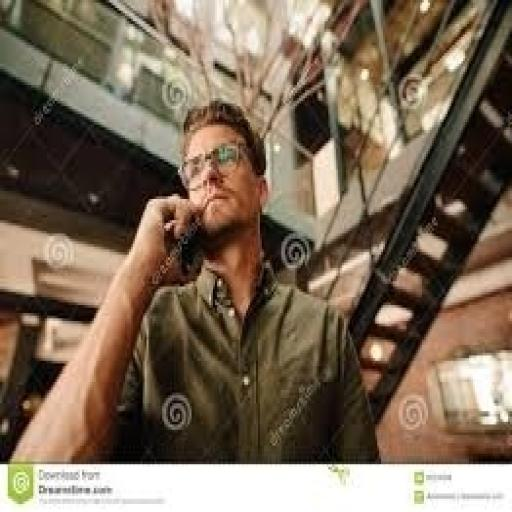calling: (8, 98, 381, 464)
